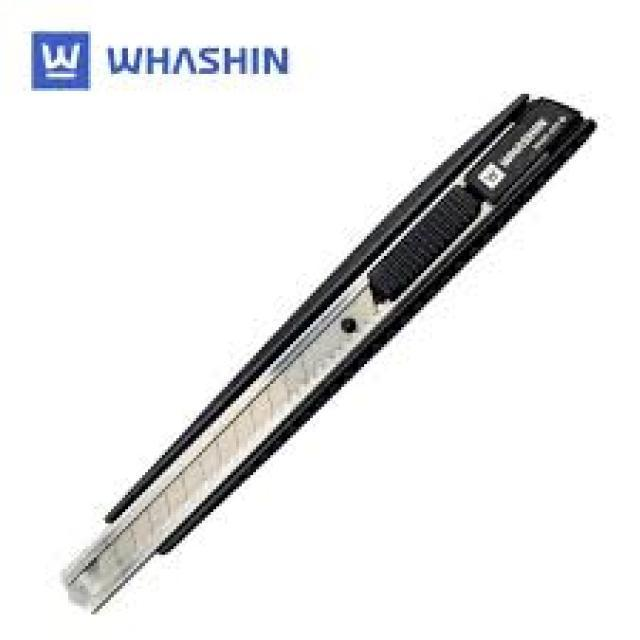cutter: (44, 89, 600, 624)
